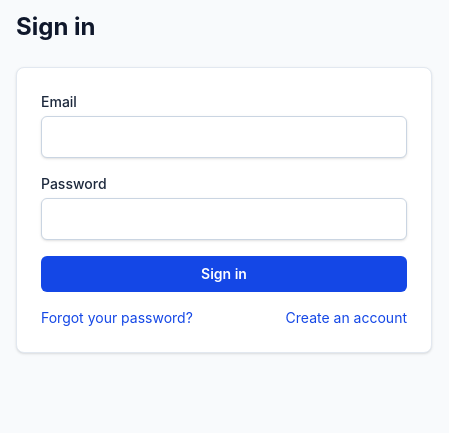
Test: SignIn › shows the server's message on a wrong password and does not sign in
Click the button "Sign in".
click(224, 274)  # box left=41, top=256, right=407, bottom=292
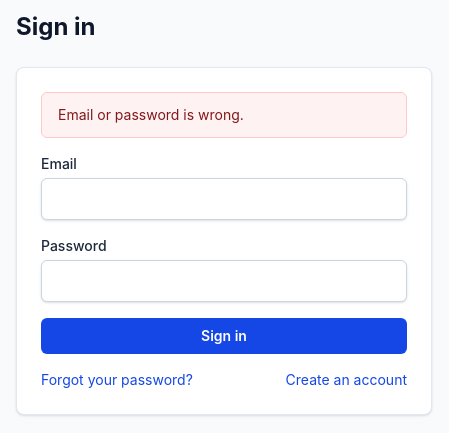
Expected: the button "Sign in" is shown, left=41, top=318, right=407, bottom=354
Expected: the message reads "Email or password is wrong.", left=58, top=106, right=244, bottom=123
